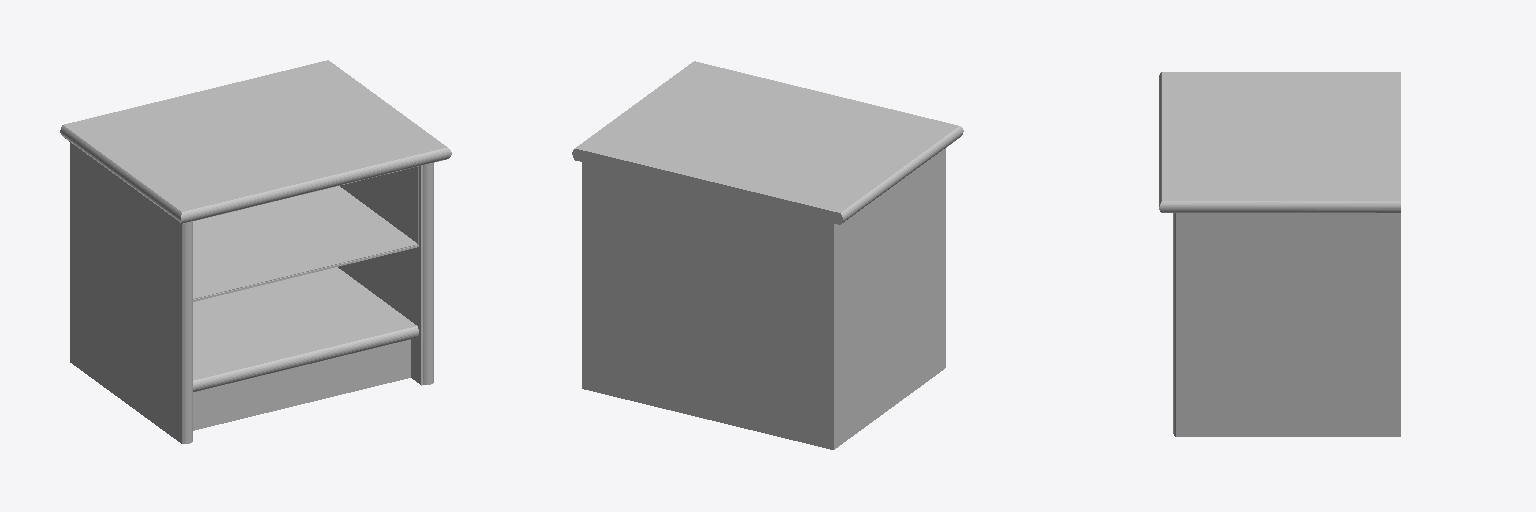
File: BedroomDrawerFrame.obj
The picture shows the model from 3 angles: view 1: azimuth 30°, elevation 25°; view 2: azimuth 150°, elevation 25°; view 3: azimuth 270°, elevation 25°; orthographic projection.
Visible parts, largest first — view 1: BedsideTable.001_Bedside_Table_C.002; view 2: BedsideTable.001_Bedside_Table_C.002; view 3: BedsideTable.001_Bedside_Table_C.002.
Part boxes in pixels (bbox=[...]): BedsideTable.001_Bedside_Table_C.002: bbox=[60, 60, 451, 443]; BedsideTable.001_Bedside_Table_C.002: bbox=[572, 61, 963, 449]; BedsideTable.001_Bedside_Table_C.002: bbox=[1159, 72, 1400, 436].
Bounding box in the file's own units: 4.4 × 3.71 × 3.4.